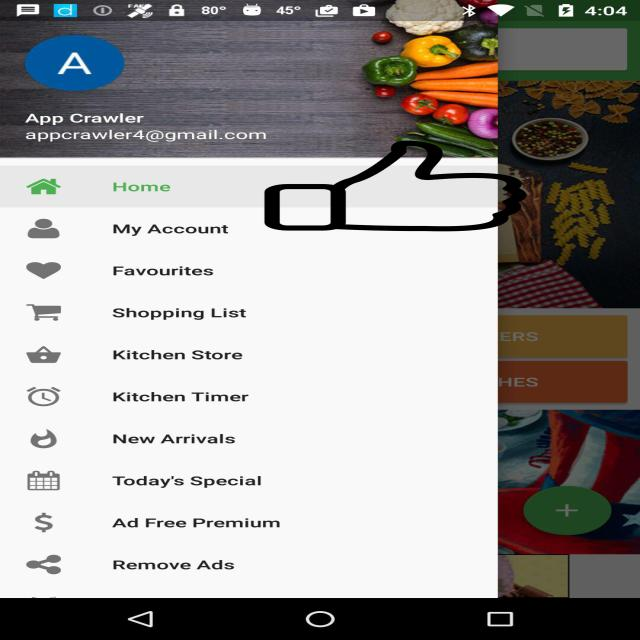privacy zuckering: (261, 141, 530, 231)
